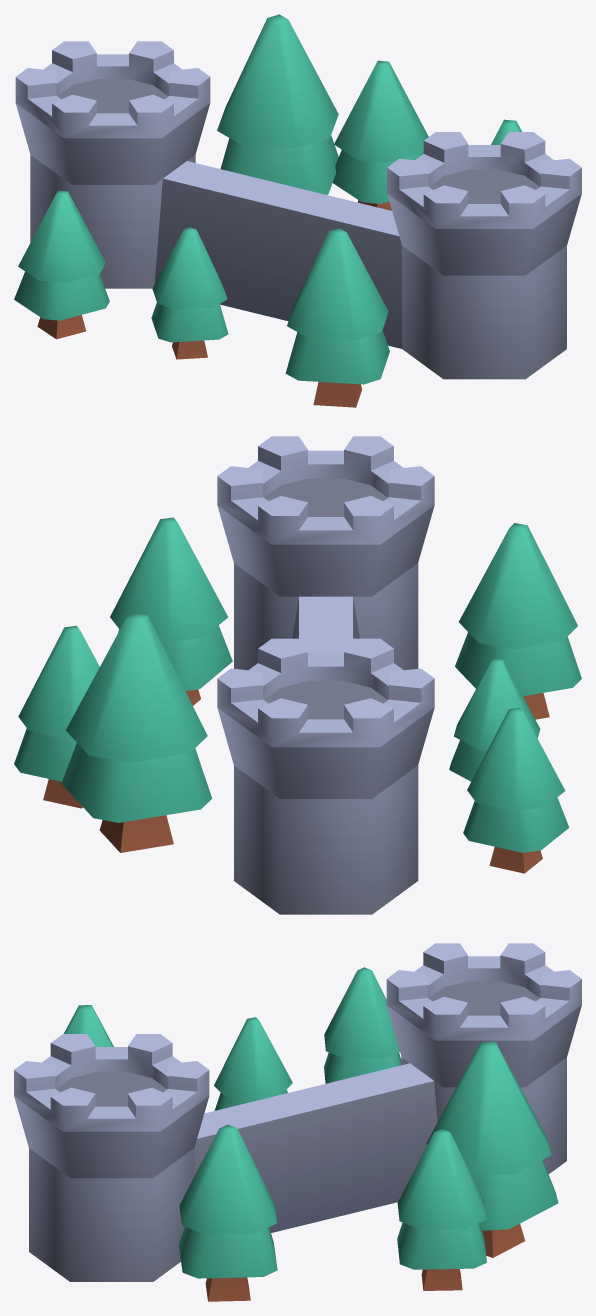
Rendered from wall.fbx.
The picture shows the model from 3 angles, top to bottom: view 1: azimuth 30°, elevation 25°; view 2: azimuth 150°, elevation 25°; view 3: azimuth 270°, elevation 25°; orthographic projection. The views are drawn at different scales.
Visible parts, largest first — view 1: building_wall; view 2: building_wall; view 3: building_wall.
Part boxes in pixels (<box>): building_wall: <box>14,14,581,407</box>; building_wall: <box>14,436,581,914</box>; building_wall: <box>14,943,581,1301</box>.
Size of the model in its own units: 92.2 by 38 by 99.02.
